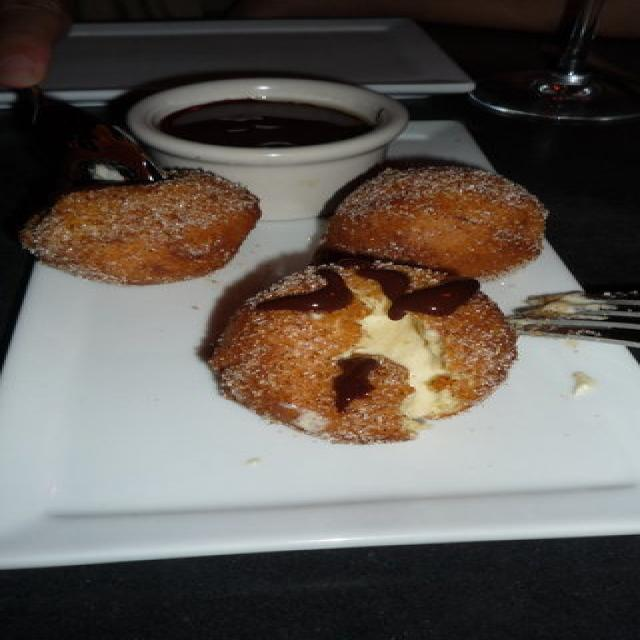Donuts: (40, 136, 566, 466)
